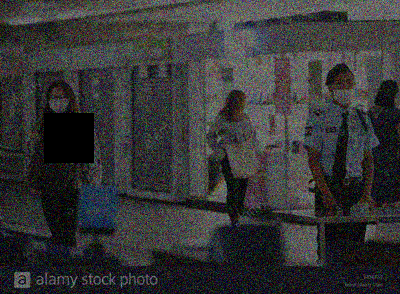mask_weared_incorrect: (331, 77, 356, 106)
with_mask: (48, 94, 72, 116)
